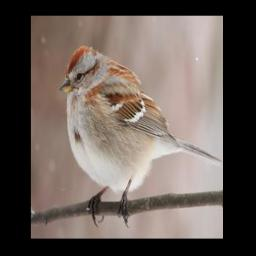Sparrow: (60, 45, 222, 227)
